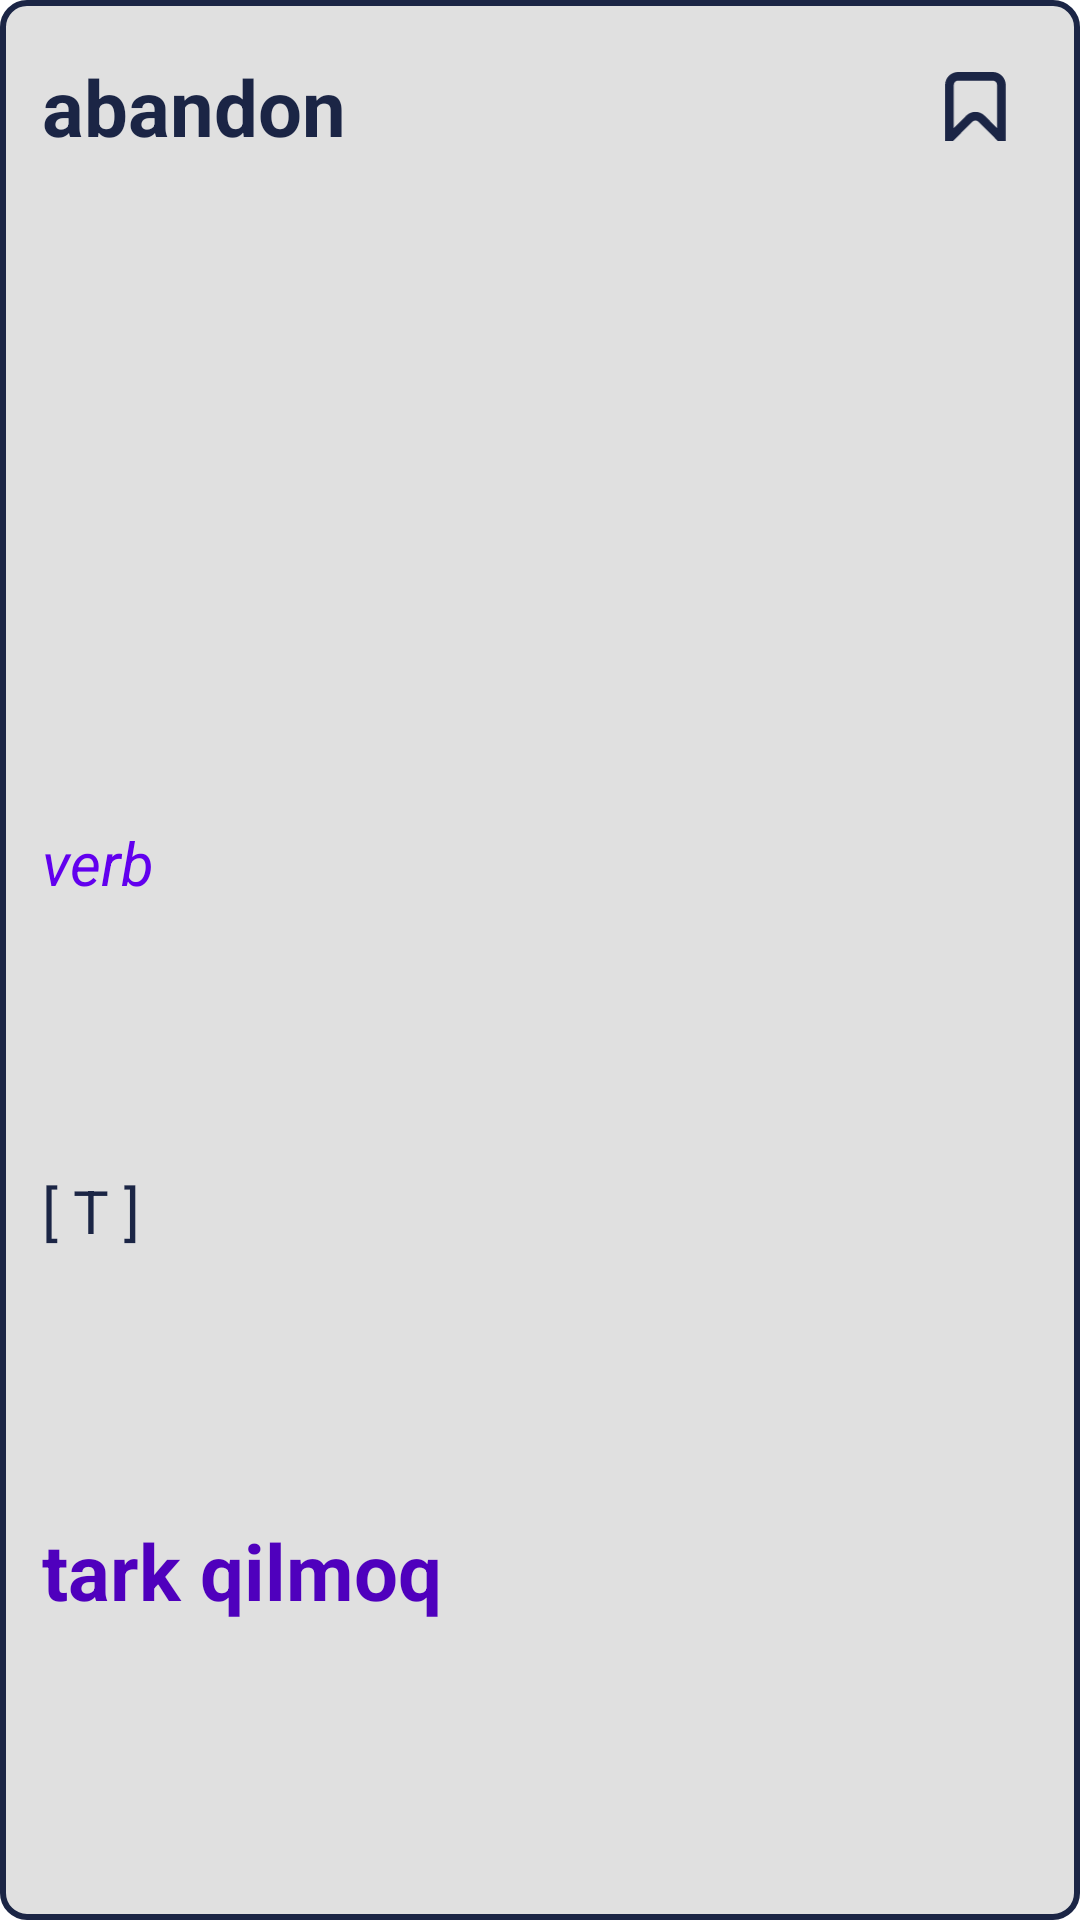

Screen size 1080 × 1920. Icon name, then its box in pixels as (x1, y1, x2, y2):
bookmark: (945, 72, 1006, 141)
